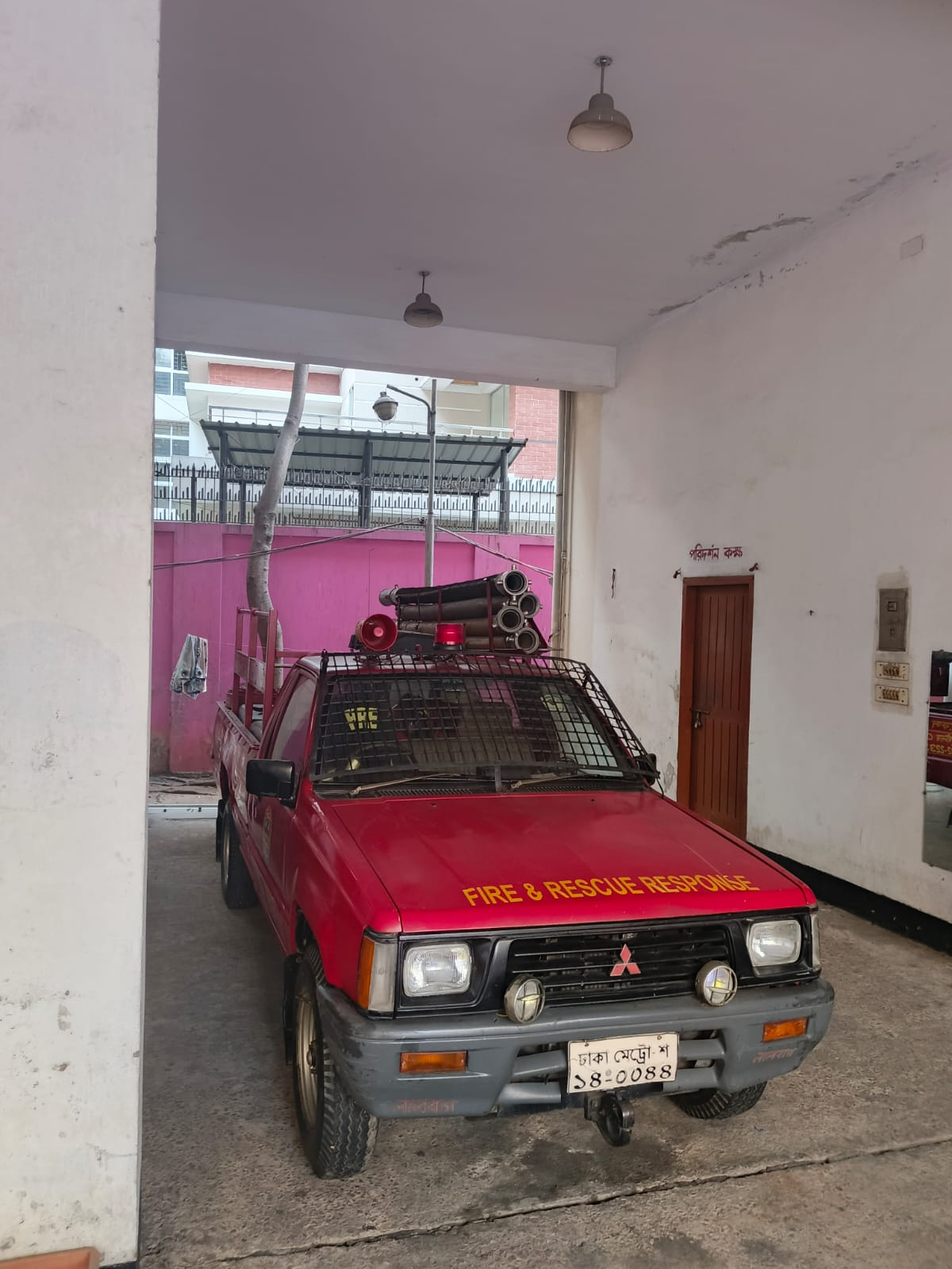Fire truck: (212, 513, 878, 1213)
